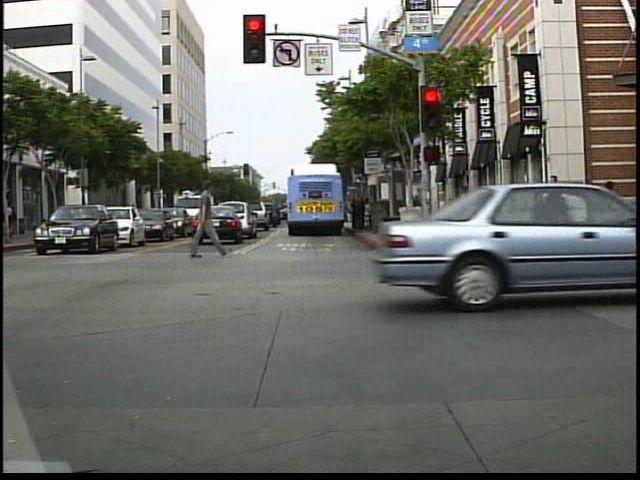person: (186, 178, 227, 263)
